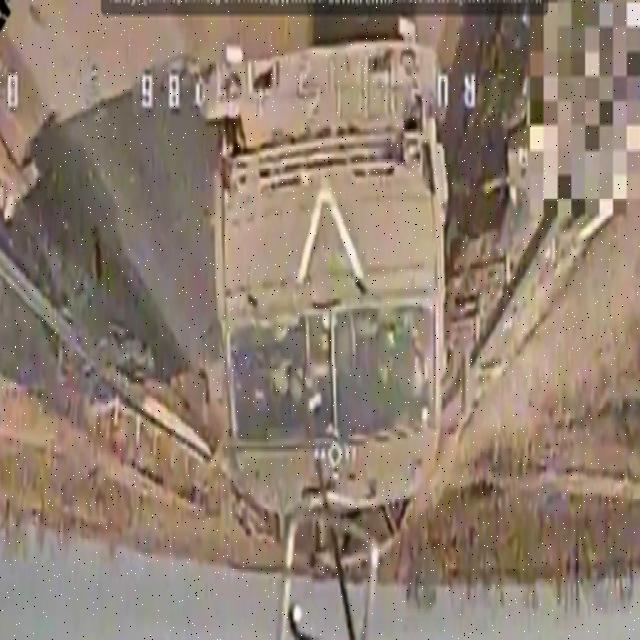TRUCK: (202, 28, 452, 592)
